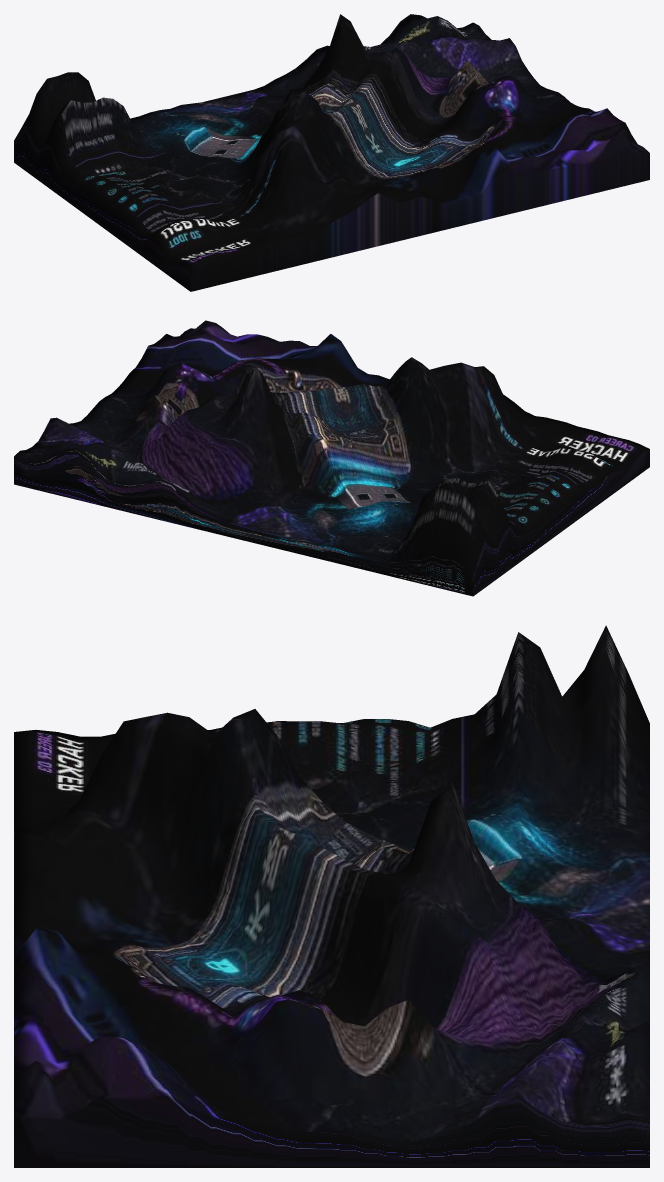
The model's file is CAREER_03_Tool_02_USB.glb.
3 views of the same model, one above another, from view 1: azimuth 30°, elevation 25°; view 2: azimuth 150°, elevation 25°; view 3: azimuth 270°, elevation 25° (orthographic). The views are drawn at different scales.
Visible parts, largest first — view 1: CAREER_03_Tool_02_USB; view 2: CAREER_03_Tool_02_USB; view 3: CAREER_03_Tool_02_USB.
Part boxes in pixels (box(x1,y1,x2,y2)): CAREER_03_Tool_02_USB: box(14, 14, 649, 291); CAREER_03_Tool_02_USB: box(14, 320, 649, 596); CAREER_03_Tool_02_USB: box(14, 625, 649, 1167).
Bounding box in the file's own units: 2 × 0.51 × 1.33.
1 material, 1 textured.
